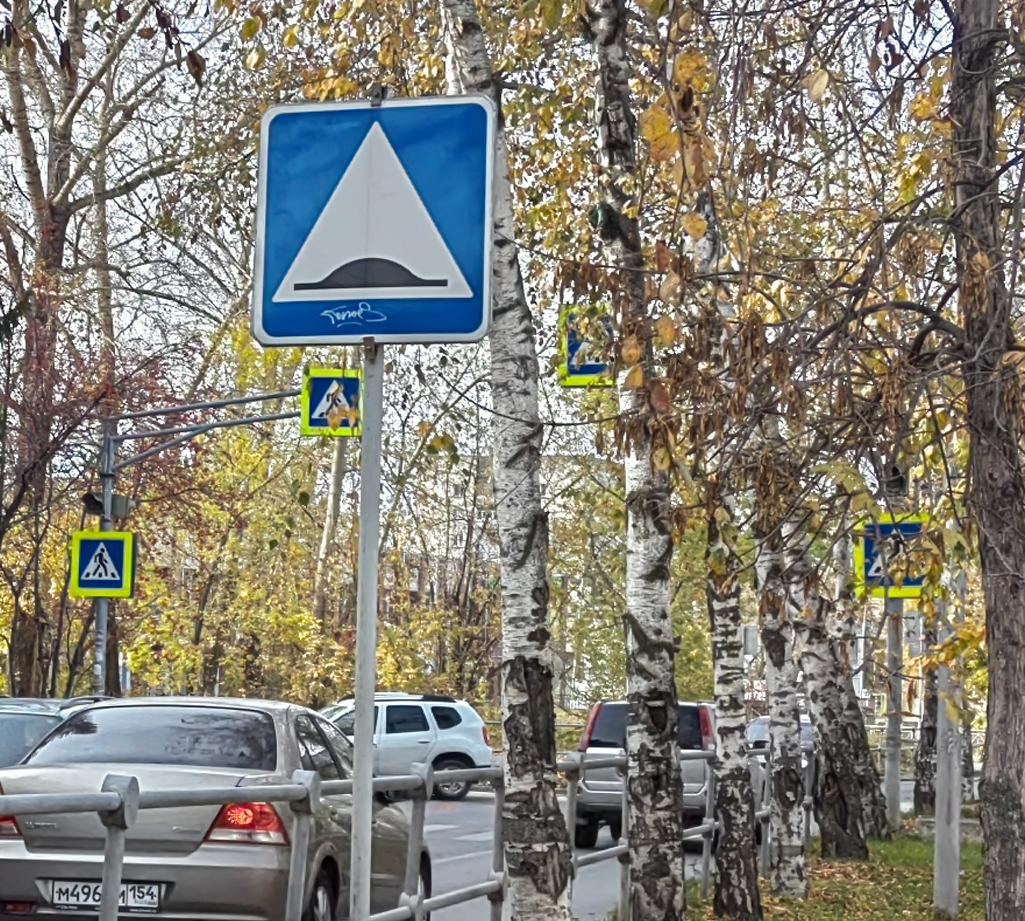obstructed_road_sign: (856, 514, 938, 596), (559, 303, 616, 386), (302, 368, 362, 435)
road_sign: (252, 93, 495, 345), (72, 533, 131, 596)
